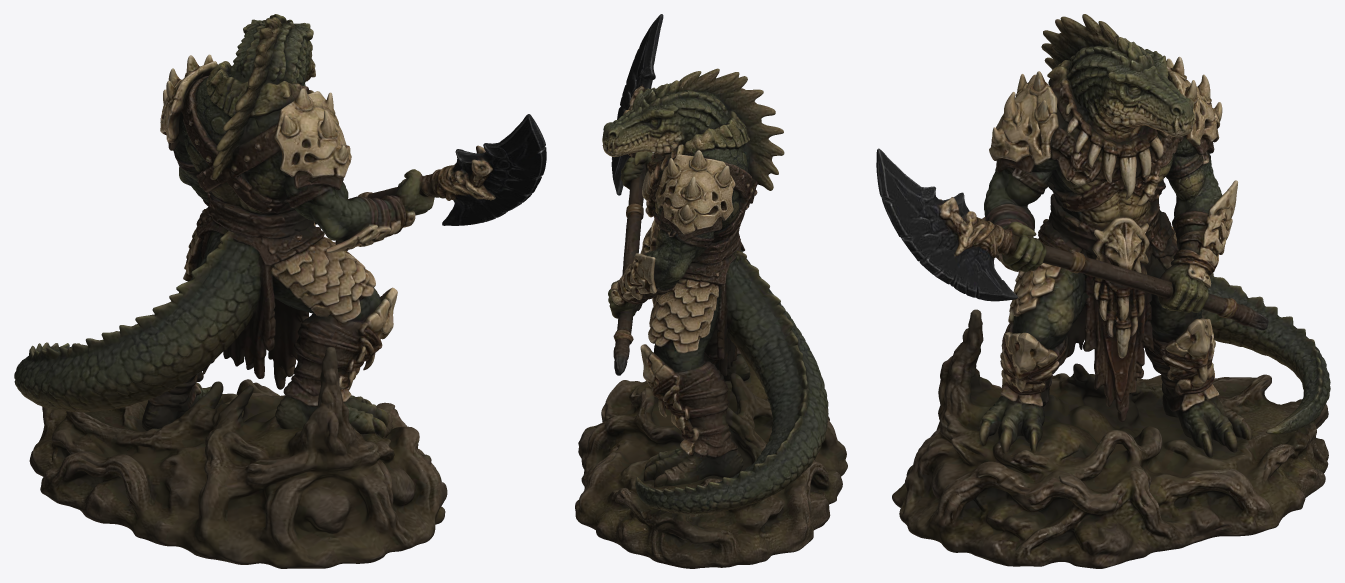
The model's file is compress_vjoqx3kblcntwnsi.glb.
3 renders of one model, left to right at view 1: azimuth 30°, elevation 25°; view 2: azimuth 150°, elevation 25°; view 3: azimuth 270°, elevation 25°, orthographic. The views are drawn at different scales.
Parts seen in each view (by area): view 1: tripo_node_06d795b1-21aa-4e8b-b1b3-d6dd8c2a6990; view 2: tripo_node_06d795b1-21aa-4e8b-b1b3-d6dd8c2a6990; view 3: tripo_node_06d795b1-21aa-4e8b-b1b3-d6dd8c2a6990.
Part boxes in pixels (x1,y1,x2,y2): tripo_node_06d795b1-21aa-4e8b-b1b3-d6dd8c2a6990: [14, 14, 546, 568]; tripo_node_06d795b1-21aa-4e8b-b1b3-d6dd8c2a6990: [575, 14, 847, 568]; tripo_node_06d795b1-21aa-4e8b-b1b3-d6dd8c2a6990: [876, 14, 1330, 568].
Size of the model in its own units: 0.8048 by 1 by 0.8553.
Materials: 1 (1 with a texture image).
